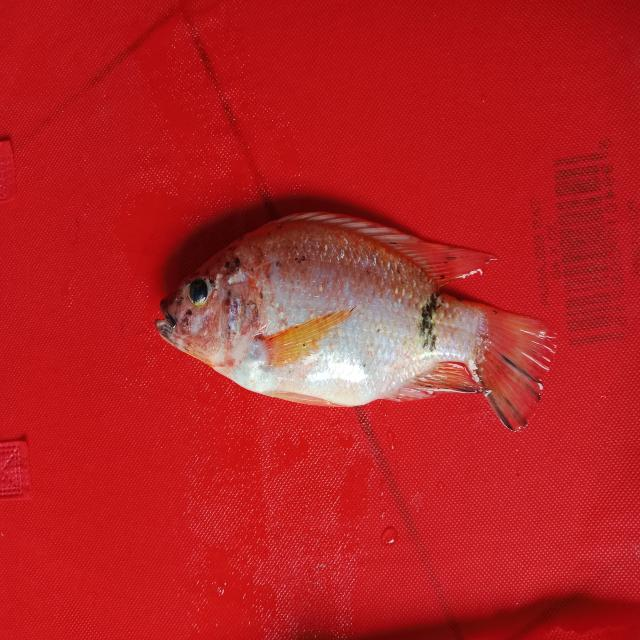ikan: (146, 192, 575, 448)
